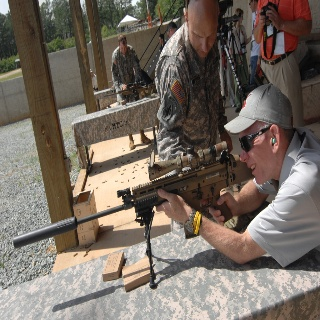rifle: (12, 140, 239, 295)
